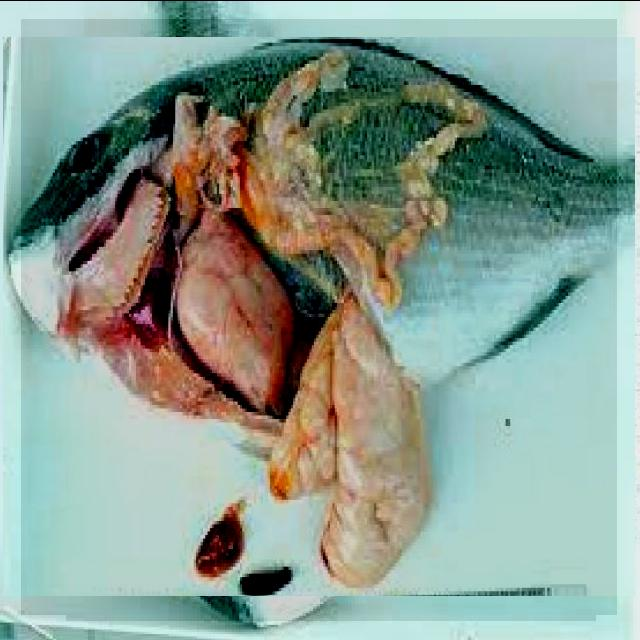EUS Disease: (21, 18, 617, 614), (66, 146, 596, 620)
